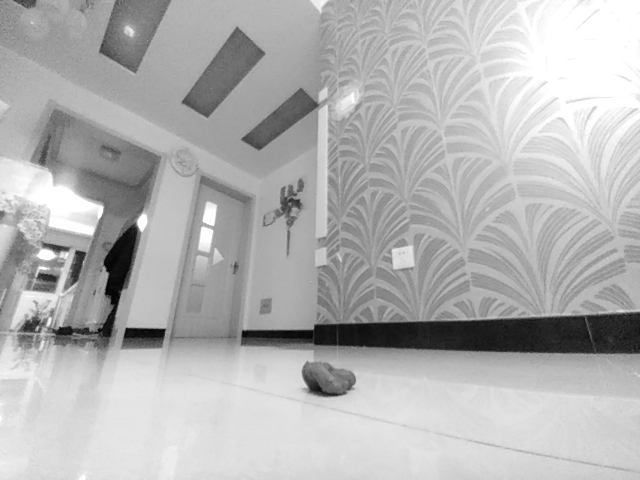pet feces: (301, 358, 358, 398)
